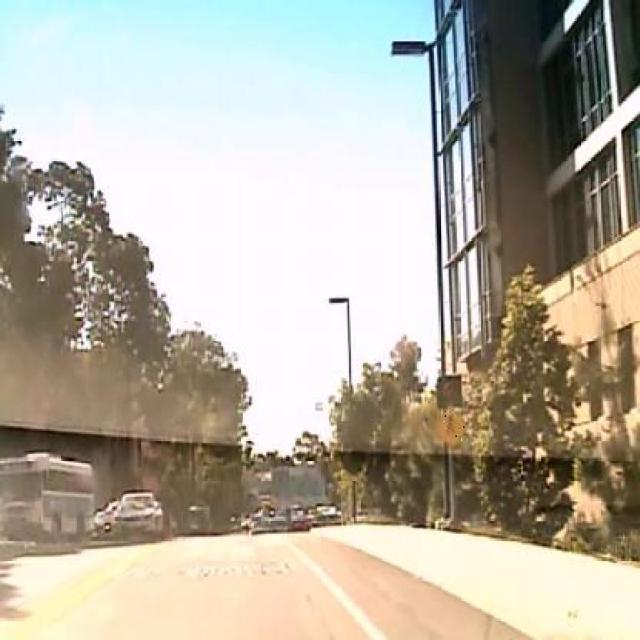pedestrianCrossing: (432, 403, 466, 451)
